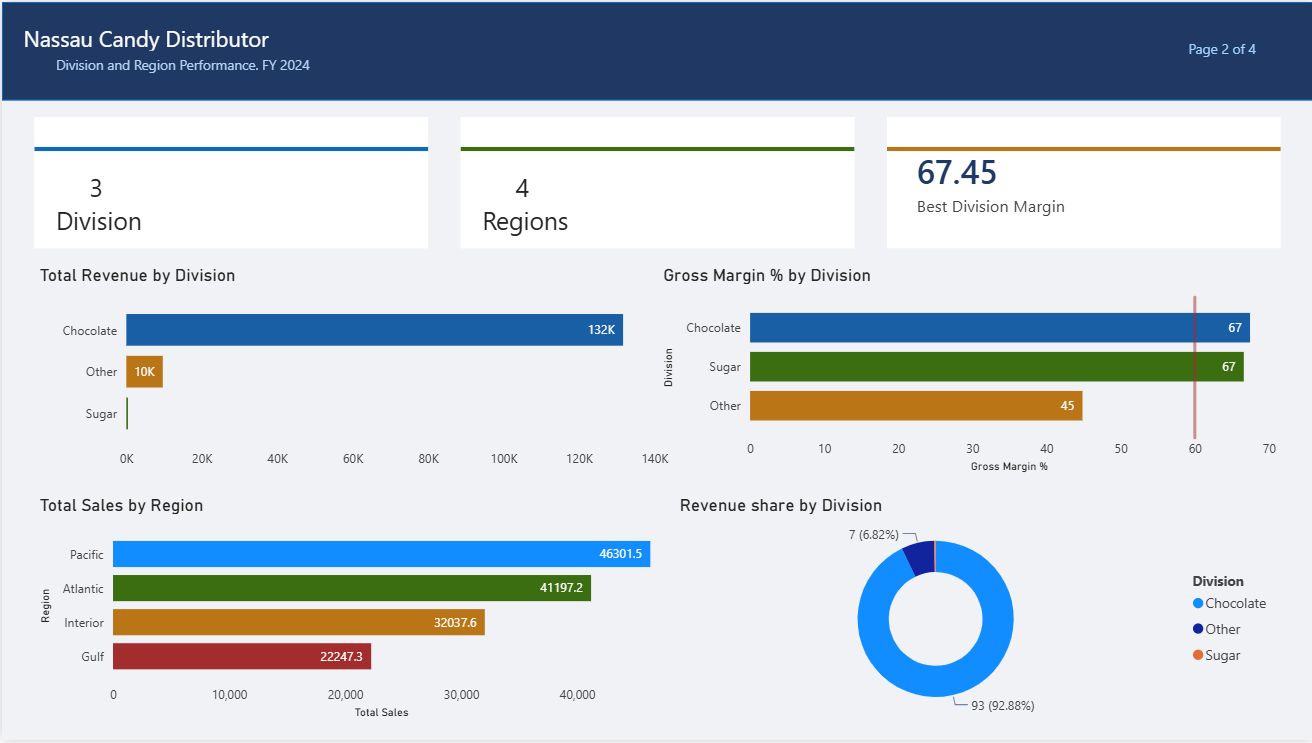

What the dashboard file says about the page in this screenshot:
{"tool":"powerbi","page":{"name":"Division_Performance","canvas":[1280,720],"ordinal":1},"visuals":[{"type":"shape","box":[0,0,1280,96],"z":0},{"type":"textbox","box":[16,16,272,64],"z":1000},{"type":"textbox","box":[48,48,272,32],"z":2000},{"type":"textbox","box":[1152,32,96,32],"z":3000},{"type":"cardVisual","fields":{"Data":["2.Best Division Margin"]},"box":[864,112,384,128],"z":4000},{"type":"shape","box":[32,112,384,128],"z":5000},{"type":"shape","box":[448,112,384,128],"z":6000},{"type":"textbox","box":[48,160,112,80],"z":7000},{"type":"textbox","box":[464,160,128,80],"z":8000},{"type":"shape","box":[32,64,384,160],"z":9000},{"type":"shape","box":[448,64,384,160],"z":10000},{"type":"shape","box":[864,64,384,160],"z":11000},{"type":"clusteredBarChart","title":"Total Revenue by Division ","fields":{"Category":["Division_Summary_Table (KPI_Calculations).Division"],"Y":["Sum(Division_Summary_Table (KPI_Calculations).Total_Sales)"]},"box":[32,256,624,208],"z":12000},{"type":"clusteredBarChart","title":"Gross Margin % by Division ","fields":{"Category":["Division_Summary_Table (KPI_Calculations).Division"],"Y":["Sum(Division_Summary_Table (KPI_Calculations).Gross_Margin_Pct)"]},"box":[640,256,608,208],"z":13000},{"type":"clusteredBarChart","fields":{"Category":["2.Region"],"Y":["2.Total Sales"]},"box":[32,480,624,224],"z":14000},{"type":"donutChart","title":" Revenue share by Division","fields":{"Category":["Division_Summary_Table (KPI_Calculations).Division"],"Y":["Sum(Division_Summary_Table (KPI_Calculations).Revenue_Contribution)"]},"box":[656,480,592,224],"z":15000}]}

Visuals, with their boxes in screenshot pixels (x1, y1, x2, y2), scaled from the page's 1280x720 canvas onto the 1312x743 screenshot:
shape: {"left": 0, "top": 0, "right": 1311, "bottom": 99}
textbox: {"left": 16, "top": 17, "right": 295, "bottom": 83}
textbox: {"left": 49, "top": 50, "right": 328, "bottom": 83}
textbox: {"left": 1181, "top": 33, "right": 1279, "bottom": 66}
cardVisual - 2.Best Division Margin: {"left": 886, "top": 116, "right": 1279, "bottom": 248}
shape: {"left": 33, "top": 116, "right": 426, "bottom": 248}
shape: {"left": 459, "top": 116, "right": 853, "bottom": 248}
textbox: {"left": 49, "top": 165, "right": 164, "bottom": 248}
textbox: {"left": 476, "top": 165, "right": 607, "bottom": 248}
shape: {"left": 33, "top": 66, "right": 426, "bottom": 231}
shape: {"left": 459, "top": 66, "right": 853, "bottom": 231}
shape: {"left": 886, "top": 66, "right": 1279, "bottom": 231}
"Total Revenue by Division " clusteredBarChart: {"left": 33, "top": 264, "right": 672, "bottom": 479}
"Gross Margin % by Division " clusteredBarChart: {"left": 656, "top": 264, "right": 1279, "bottom": 479}
clusteredBarChart - 2.Region x 2.Total Sales: {"left": 33, "top": 495, "right": 672, "bottom": 726}
" Revenue share by Division" donutChart: {"left": 672, "top": 495, "right": 1279, "bottom": 726}
